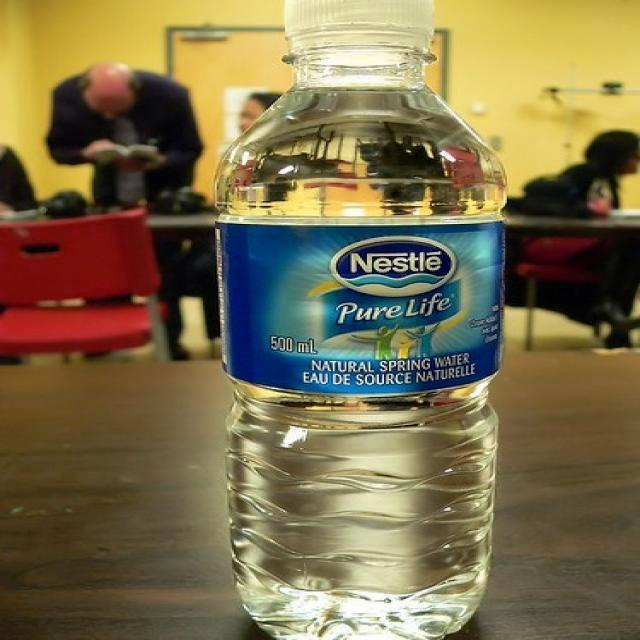bottle: (214, 1, 509, 639)
